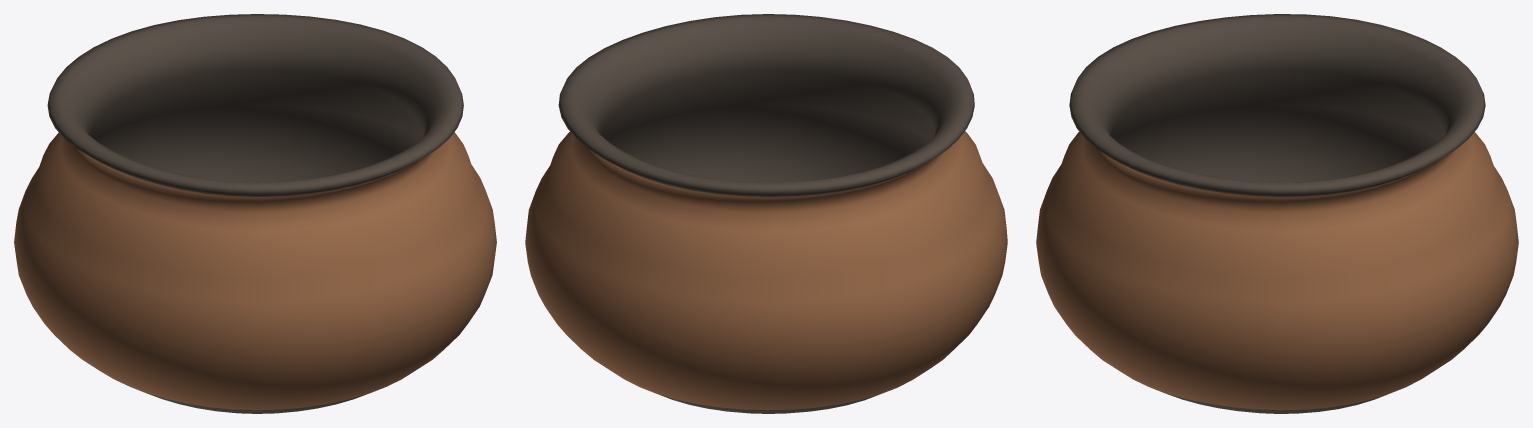
The model's file is fixture_cook.glb.
3 views of the same model, side by side, from view 1: azimuth 30°, elevation 25°; view 2: azimuth 150°, elevation 25°; view 3: azimuth 270°, elevation 25° (orthographic).
Visible parts, largest first — view 1: Hearth vessel; view 2: Hearth vessel; view 3: Hearth vessel.
Part boxes in pixels (<box>): Hearth vessel: <box>14,14,496,413</box>; Hearth vessel: <box>525,14,1007,413</box>; Hearth vessel: <box>1036,14,1518,413</box>.
Bounding box in the file's own units: 0.45 × 0.289 × 0.45.
